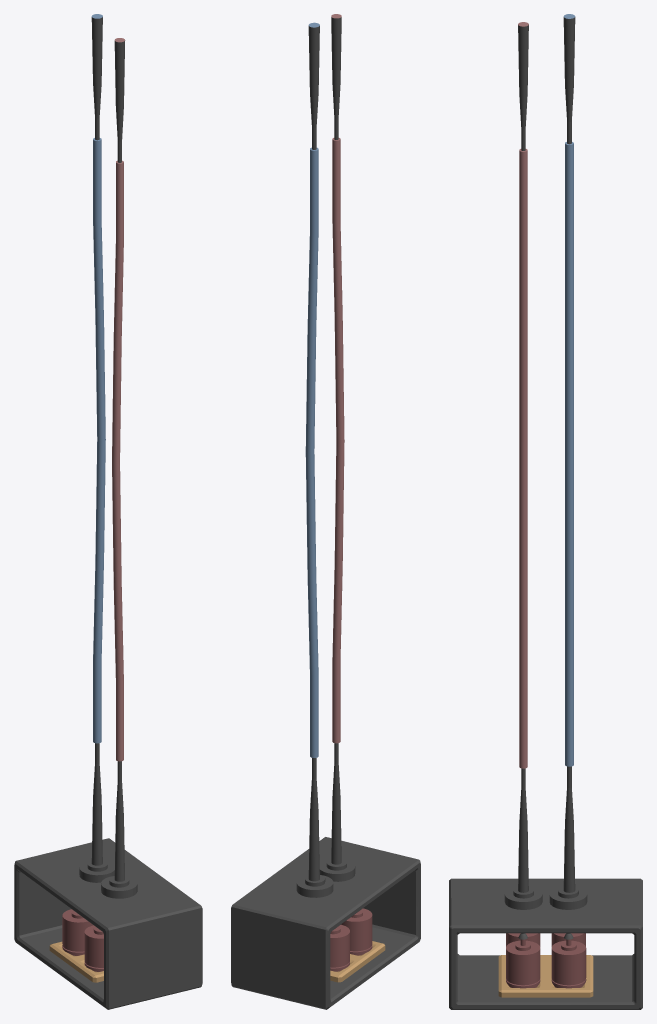
File: WiresWithBox.fbx
The picture shows the model from 3 angles, left to right: view 1: azimuth 30°, elevation 25°; view 2: azimuth 150°, elevation 25°; view 3: azimuth 270°, elevation 25°; orthographic projection. The views are drawn at different scales.
Visible parts, largest first — view 1: BatteryAdv:pCube4BatteryStrongWire8; view 2: BatteryAdv:pCube4BatteryStrongWire8; view 3: BatteryAdv:pCube4BatteryStrongWire8.
Part boxes in pixels (bbox=[...]): BatteryAdv:pCube4BatteryStrongWire8: bbox=[14, 14, 202, 1009]; BatteryAdv:pCube4BatteryStrongWire8: bbox=[231, 14, 420, 1009]; BatteryAdv:pCube4BatteryStrongWire8: bbox=[449, 14, 642, 1009].
Bounding box in the file's own units: 0.8807 × 8.21 × 1.48.
